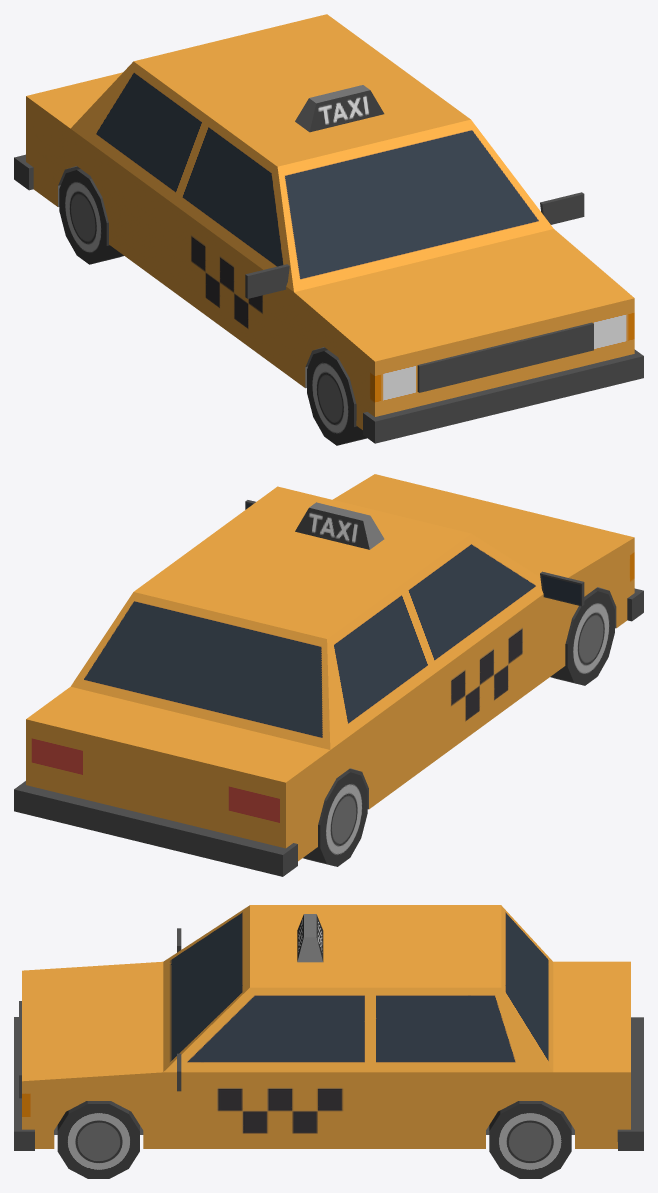
The model's file is TaxiSedan.fbx.
The picture shows the model from 3 angles, top to bottom: view 1: azimuth 30°, elevation 25°; view 2: azimuth 150°, elevation 25°; view 3: azimuth 270°, elevation 25°; orthographic projection. The views are drawn at different scales.
Visible parts, largest first — view 1: TaxiSedan; view 2: TaxiSedan; view 3: TaxiSedan.
Part boxes in pixels (x1=…): TaxiSedan: x1=14, y1=14, x2=643, y2=445; TaxiSedan: x1=14, y1=474, x2=643, y2=876; TaxiSedan: x1=14, y1=905, x2=643, y2=1178.
Size of the model in its own units: 263 by 169 by 488.
